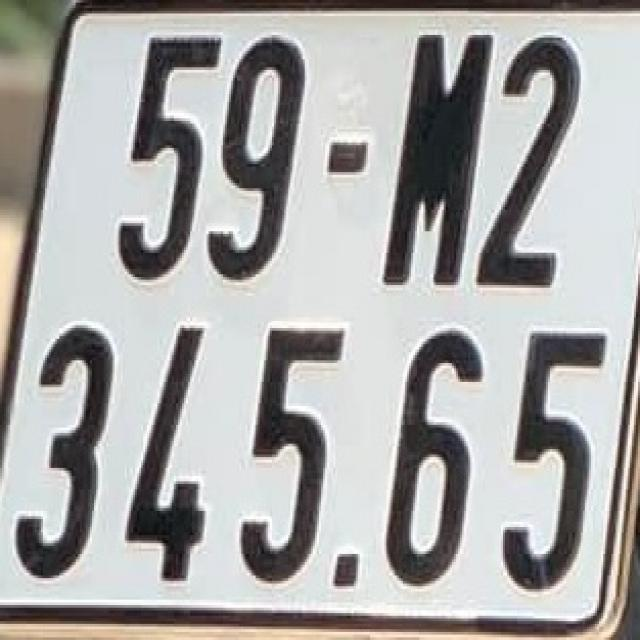2: (478, 27, 580, 296)
3: (10, 317, 117, 581)
4: (123, 315, 215, 589)
5: (235, 309, 350, 589), (499, 317, 607, 597), (110, 24, 217, 285)
6: (378, 317, 487, 592)
9: (204, 27, 311, 288)
M: (384, 16, 482, 304)
